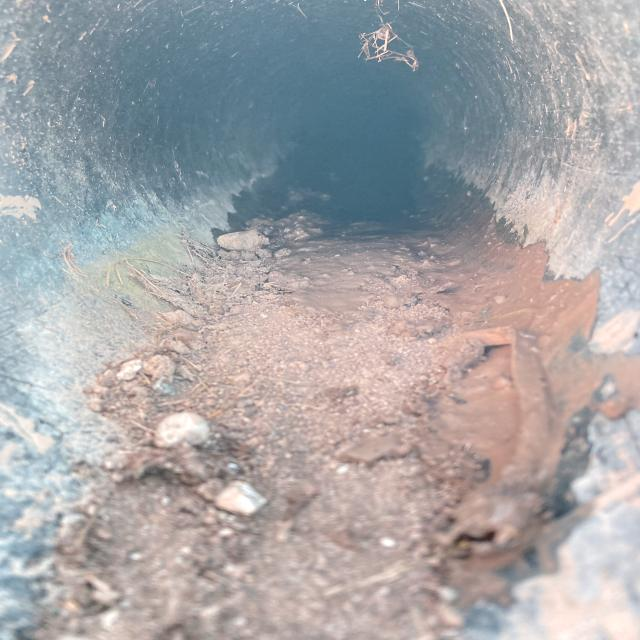dirt: (113, 205, 505, 640)
root: (356, 0, 415, 71)
